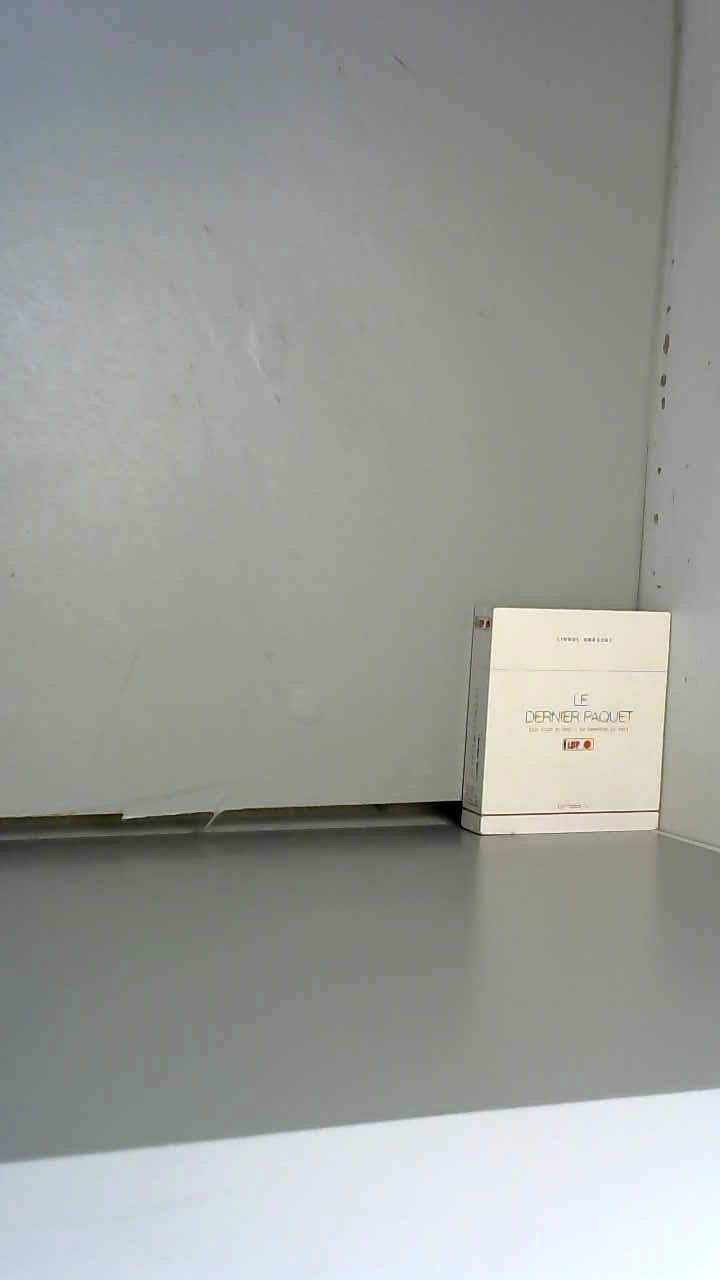book: (449, 588, 689, 855)
